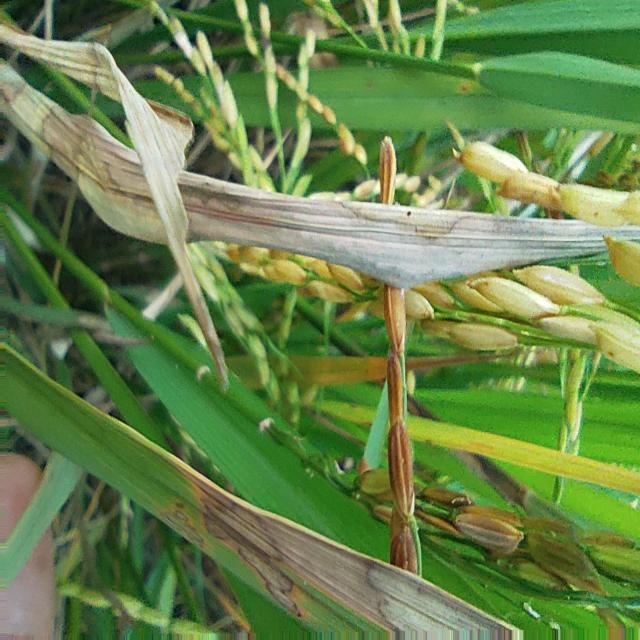Leaf_Blast: (408, 417, 640, 495), (290, 355, 386, 387), (406, 353, 495, 370), (320, 400, 374, 425), (230, 355, 260, 390)
Rice False Smut: (1, 25, 228, 387), (179, 172, 640, 288), (0, 62, 166, 243), (202, 488, 300, 616), (369, 562, 514, 630), (156, 498, 208, 548)
